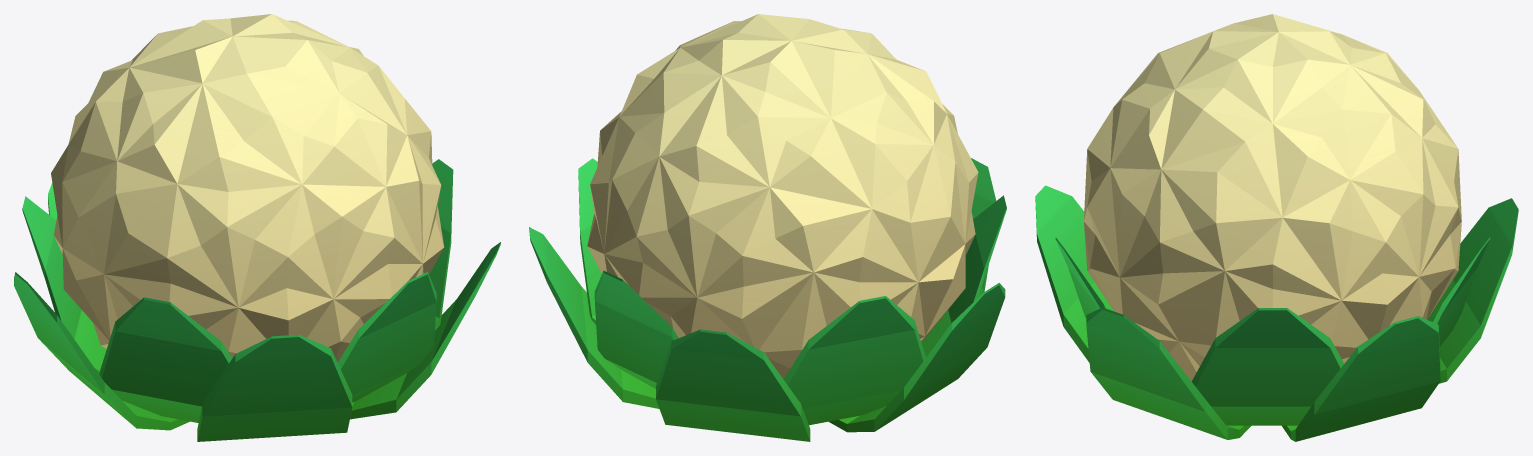
Rendered from couliflower.fbx.
3 renders of one model, left to right at view 1: azimuth 30°, elevation 25°; view 2: azimuth 150°, elevation 25°; view 3: azimuth 270°, elevation 25°, orthographic.
Parts seen in each view (by area): view 1: couliflower; view 2: couliflower; view 3: couliflower.
Part boxes in pixels (x1=…): couliflower: x1=14, y1=14, x2=500, y2=441; couliflower: x1=529, y1=14, x2=1006, y2=441; couliflower: x1=1035, y1=14, x2=1518, y2=441.
Size of the model in its own units: 233 by 189 by 237.
